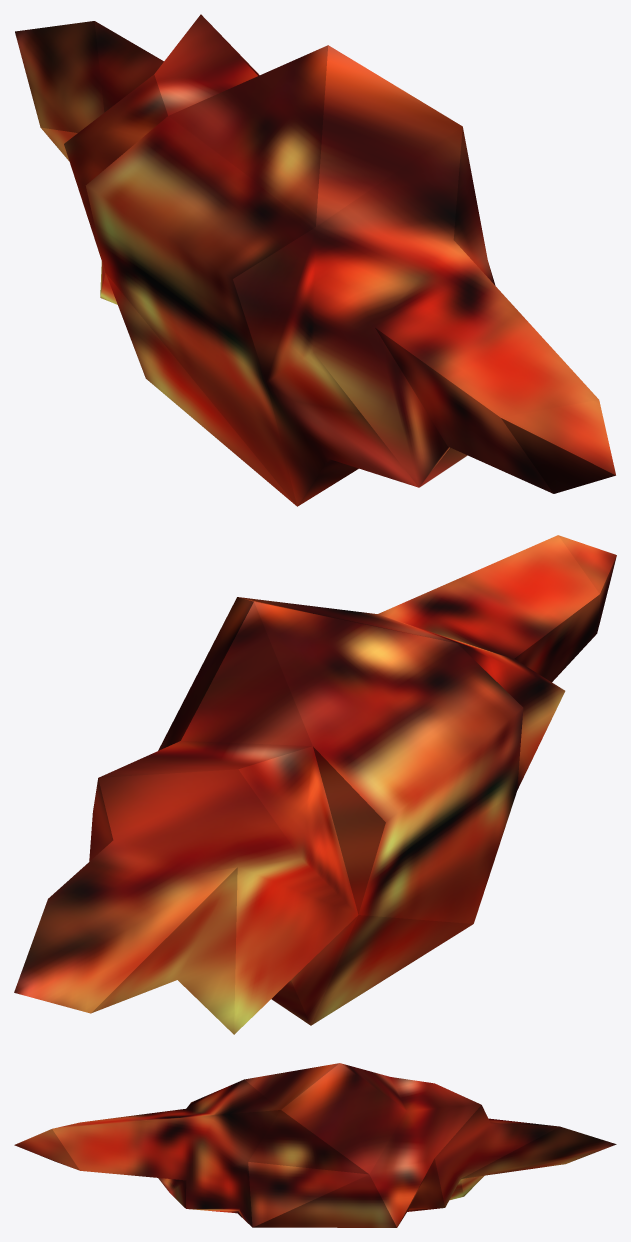
File: xueshi.fbx
3 views of the same model, one above another, from view 1: azimuth 30°, elevation 25°; view 2: azimuth 150°, elevation 25°; view 3: azimuth 270°, elevation 25° (orthographic). The views are drawn at different scales.
Visible parts, largest first — view 1: polySurface5; view 2: polySurface5; view 3: polySurface5.
Part boxes in pixels (x1,y1,x2,y2): polySurface5: [15, 14, 615, 506]; polySurface5: [14, 535, 616, 1034]; polySurface5: [14, 1063, 616, 1227].
Size of the model in its own units: 0.0698 by 0.0831 by 0.2512.
